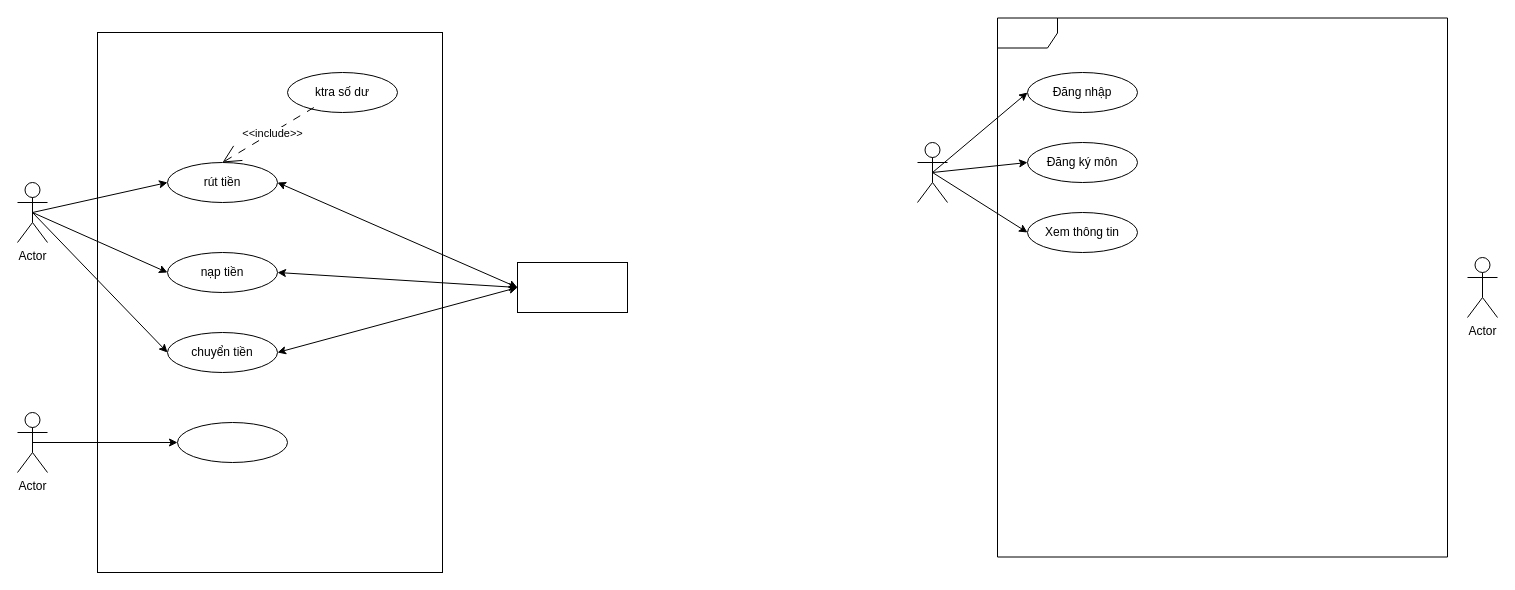
This 1515x590 diagram has some shape labels left out. Each missing label, with the box of its shape:
ATM: (96, 32, 442, 572)
bảo trì sửa chữa: (176, 422, 288, 462)
frame: (996, 17, 1448, 557)
ngân hàng: (516, 262, 628, 312)
Sinh vien: (916, 142, 948, 202)
